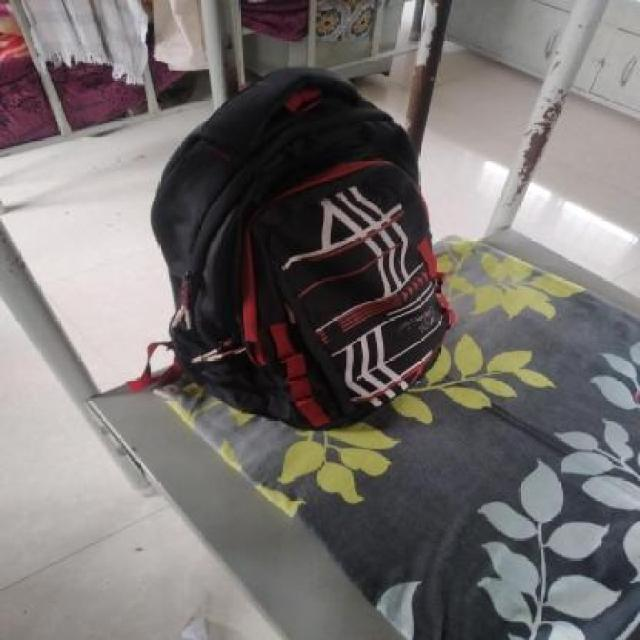backpack: (146, 63, 460, 437)
